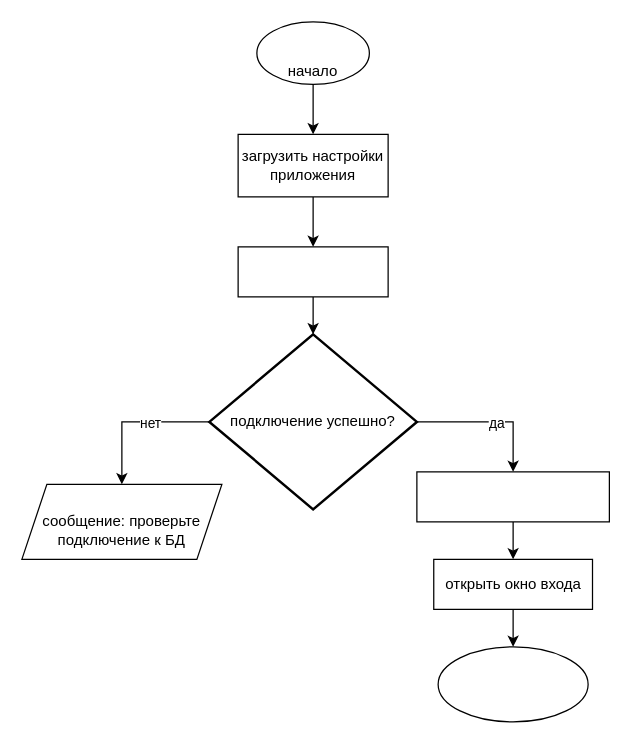
This 631x744 diagram has some shape labels left out. Each missing label, with the box of its shape:
загрузить иконку, логотип и заглушка фото: (416, 471, 609, 522)
ожидание действия пользователя: (437, 646, 588, 722)
открыть подключение к БД: (237, 246, 388, 297)
